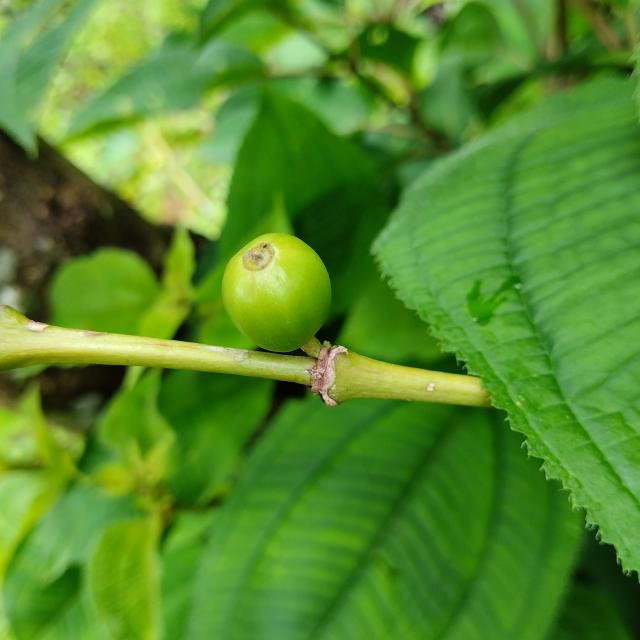green: (222, 233, 332, 352)
